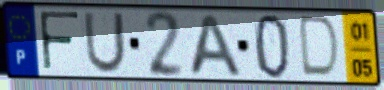0: (252, 12, 291, 81)
2: (143, 6, 186, 81)
A: (185, 12, 245, 79)
D: (299, 14, 343, 81)
F: (37, 9, 83, 75)
U: (82, 11, 128, 75)
